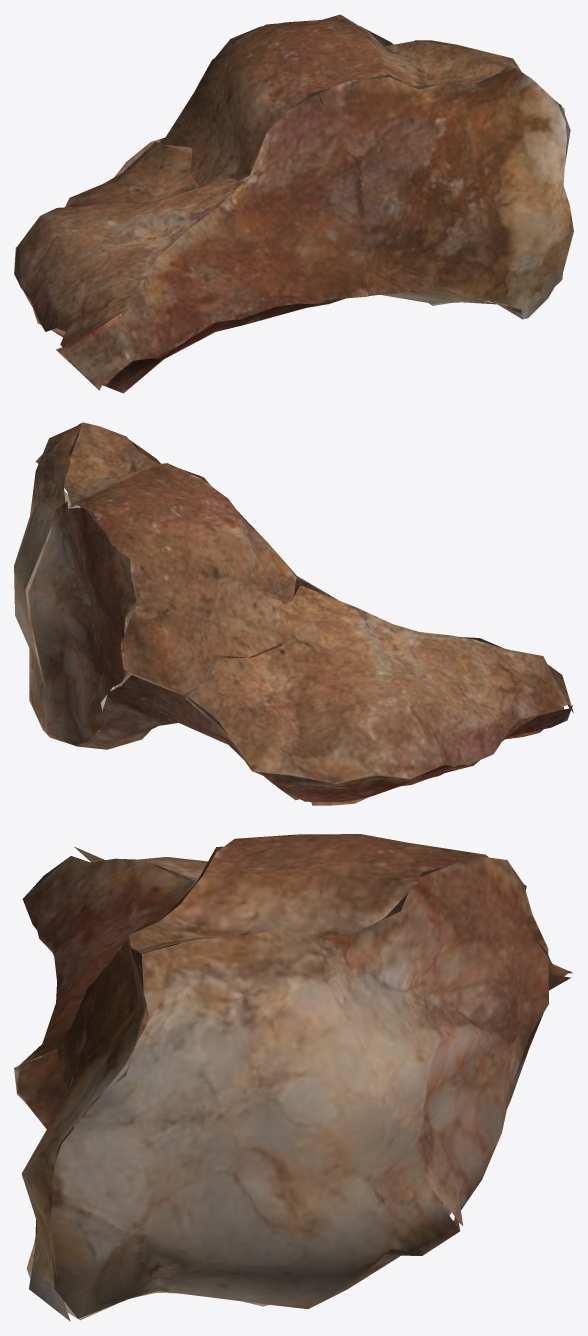
The model's file is stone_01.glb.
The picture shows the model from 3 angles, top to bottom: view 1: azimuth 30°, elevation 25°; view 2: azimuth 150°, elevation 25°; view 3: azimuth 270°, elevation 25°; orthographic projection. The views are drawn at different scales.
Visible parts, largest first — view 1: stone_01_v0_far; view 2: stone_01_v0_far; view 3: stone_01_v0_far.
Boxes of the visible parts, x1=… form: stone_01_v0_far: x1=14, y1=14, x2=573, y2=393; stone_01_v0_far: x1=14, y1=422, x2=573, y2=805; stone_01_v0_far: x1=14, y1=834, x2=572, y2=1321.
Bounding box in the file's own units: 0.1474 × 0.071 × 0.0888.
Materials: 1 (1 with a texture image).
